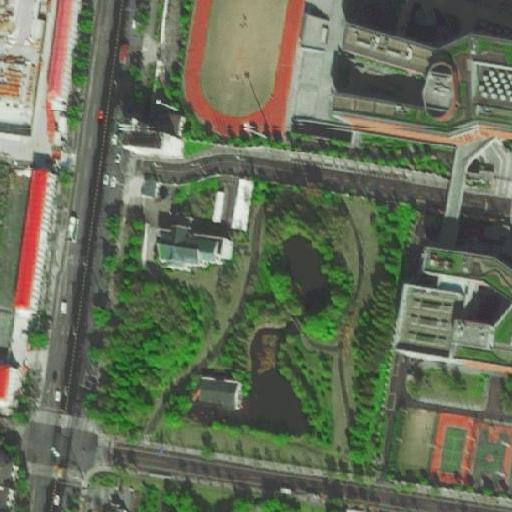building: (328, 14, 512, 144), (413, 233, 512, 308), (278, 9, 337, 131), (16, 177, 57, 321), (156, 224, 230, 266), (206, 163, 243, 225), (194, 372, 241, 408), (142, 133, 187, 163), (0, 367, 19, 404)
